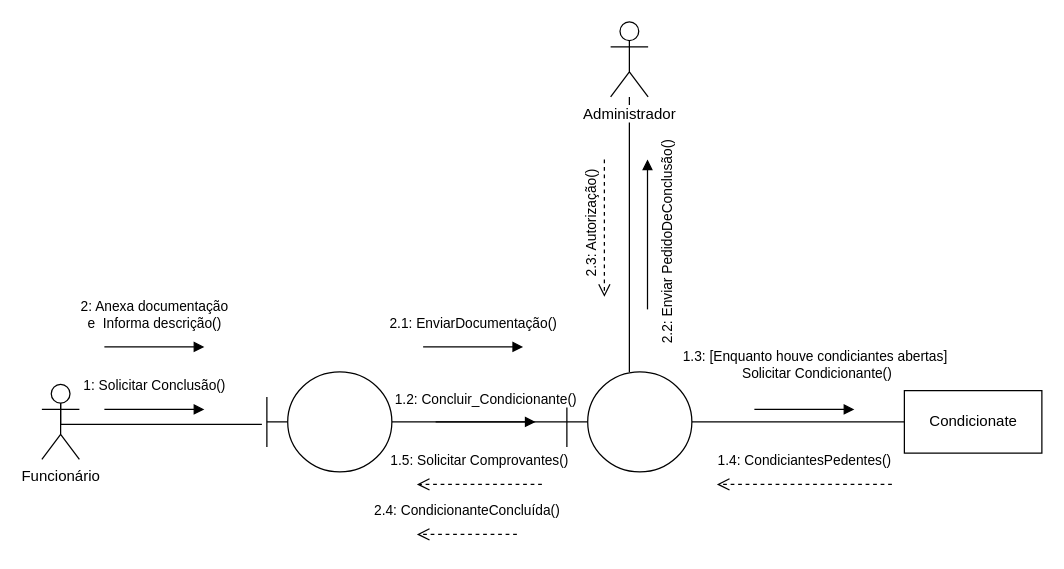
Some shapes in this 1064 by 569 pixel diagram are drawn without their labels. The shapes that lost their labels are listed below. From the top down, each one's box as (x1, y1, x2, y2) in pixels, then its label:
(266, 371, 392, 472): Interface
(566, 371, 692, 472): Controle
